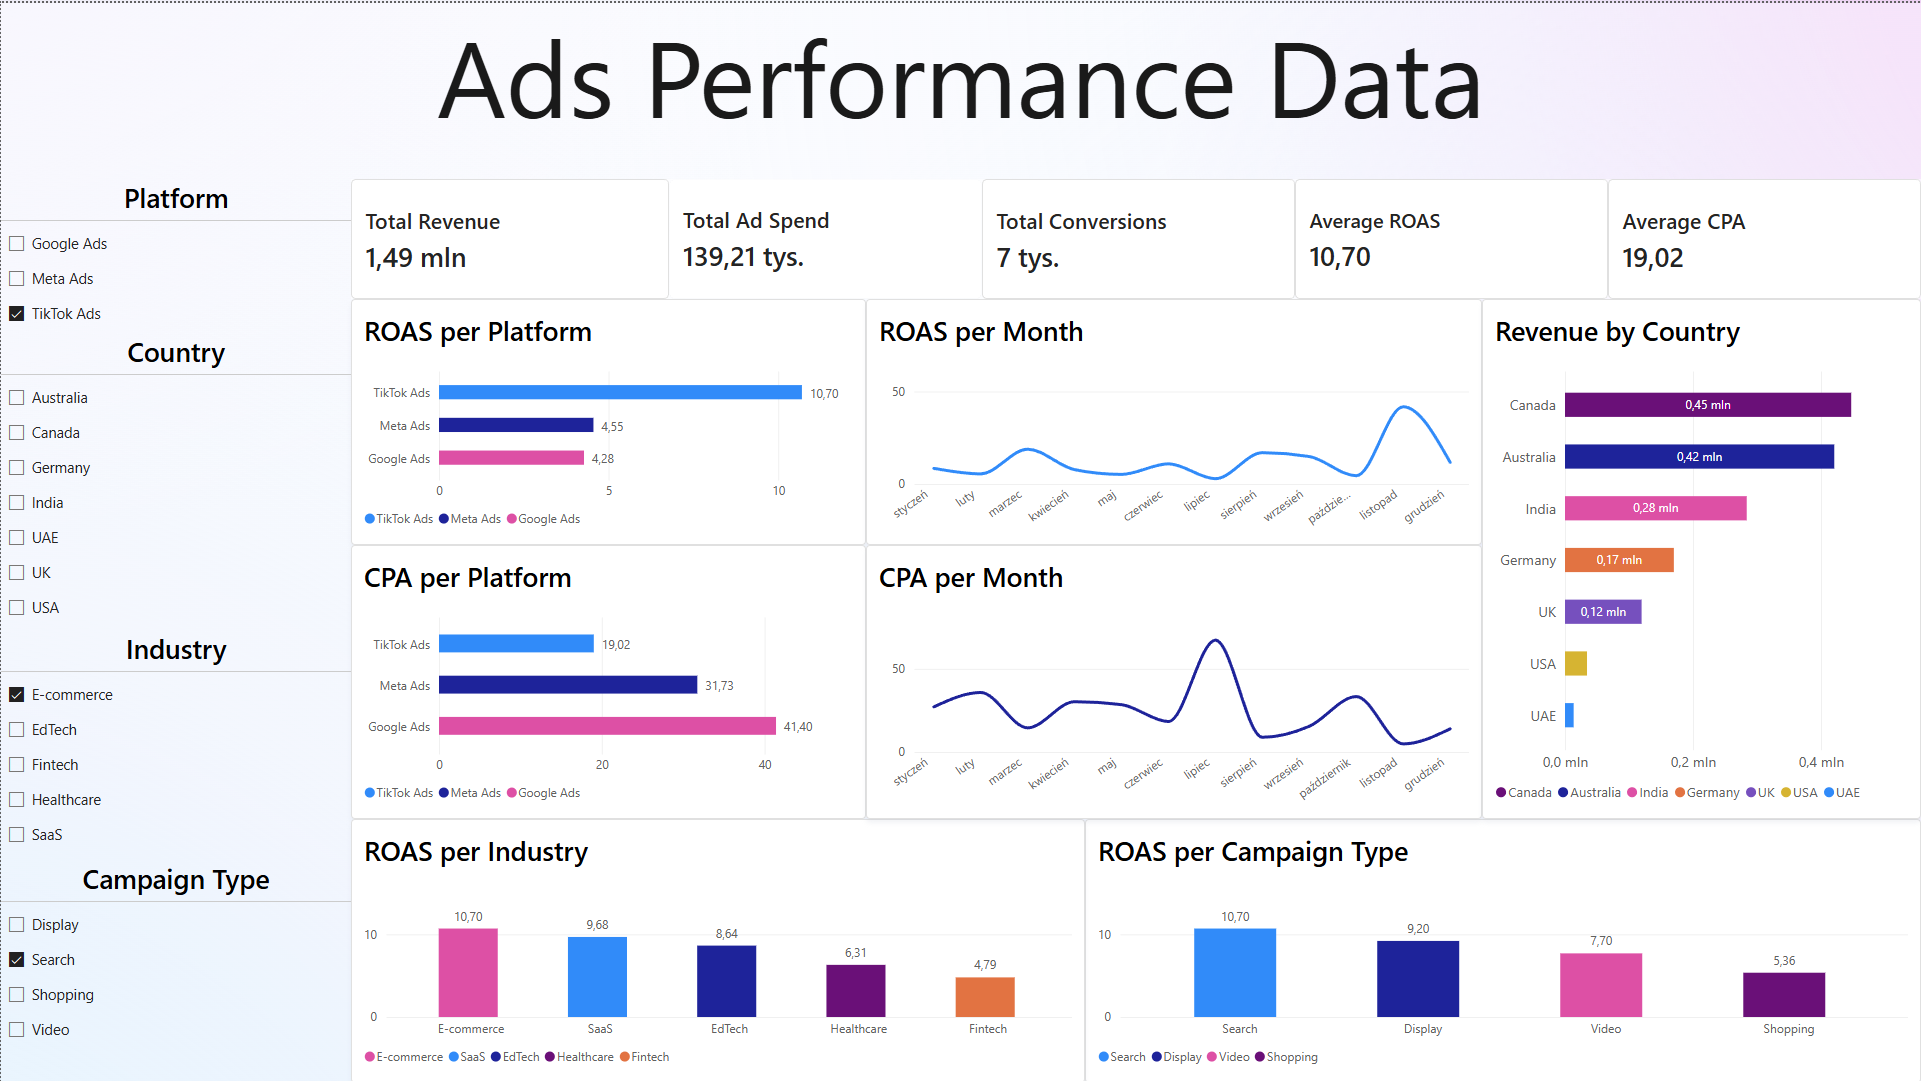

Layout of this report page (visuals, bound fields, positions):
{"tool":"powerbi","page":{"name":"Strona 1","canvas":[1920,1080],"ordinal":0},"visuals":[{"type":"textbox","box":[0,0,1920,176],"z":0},{"type":"barChart","title":"ROAS per Platform","fields":{"Category":["global_ads_performance_dataset.platform"],"Series":["global_ads_performance_dataset.platform"],"Y":["global_ads_performance_dataset.total_roas"]},"box":[350,296,515,246],"z":1000},{"type":"barChart","title":"CPA per Platform","fields":{"Category":["global_ads_performance_dataset.platform"],"Series":["global_ads_performance_dataset.platform"],"Y":["global_ads_performance_dataset.total_cpa"]},"box":[350,542,515,274],"z":2000},{"type":"columnChart","title":"ROAS per Campaign Type","fields":{"Category":["global_ads_performance_dataset.campaign_type"],"Series":["global_ads_performance_dataset.campaign_type"],"Y":["global_ads_performance_dataset.total_roas"]},"box":[1083.7,815.7,836.3,264],"z":4000},{"type":"columnChart","title":"ROAS per Industry","fields":{"Category":["global_ads_performance_dataset.industry"],"Series":["global_ads_performance_dataset.industry"],"Y":["global_ads_performance_dataset.total_roas"]},"box":[350.4,815.7,733.3,264],"z":5000},{"type":"lineChart","title":"ROAS per Month","fields":{"Category":["global_ads_performance_dataset.date.Variation.Hierarchia dat.Miesiąc"],"Y":["global_ads_performance_dataset.total_roas"]},"box":[865,296,616,246],"z":6000},{"type":"slicer","title":"Platform","fields":{"Values":["global_ads_performance_dataset.platform"]},"box":[0,176,350,154],"z":7000},{"type":"slicer","title":"Country","fields":{"Values":["global_ads_performance_dataset.country"]},"box":[0,330,349.8,296.7],"z":8000},{"type":"slicer","title":"Industry","fields":{"Values":["global_ads_performance_dataset.industry"]},"box":[0,627,350,230],"z":9000},{"type":"slicer","title":"Campaign Type","fields":{"Values":["global_ads_performance_dataset.campaign_type"]},"box":[0,857,349.8,188.6],"z":10000},{"type":"cardVisual","fields":{"Data":["Sum(global_ads_performance_dataset.ad_spend)"]},"box":[668,176,313,119.8],"z":10001},{"type":"cardVisual","fields":{"Data":["Sum(global_ads_performance_dataset.revenue)"]},"box":[350,176,318,120],"z":10002},{"type":"cardVisual","fields":{"Data":["Sum(global_ads_performance_dataset.conversions)"]},"box":[981,176,313,119.8],"z":10003},{"type":"cardVisual","fields":{"Data":["global_ads_performance_dataset.total_roas"]},"box":[1294,176,313,119.9],"z":10004},{"type":"cardVisual","fields":{"Data":["global_ads_performance_dataset.total_cpa"]},"box":[1607,176,313,119.9],"z":10005},{"type":"lineChart","title":"CPA per Month","fields":{"Category":["global_ads_performance_dataset.date.Variation.Hierarchia dat.Miesiąc"],"Y":["global_ads_performance_dataset.total_cpa"]},"box":[865,542,616,274],"z":10006},{"type":"barChart","title":"Revenue by Country","fields":{"Category":["global_ads_performance_dataset.country"],"Series":["global_ads_performance_dataset.country"],"Y":["Sum(global_ads_performance_dataset.revenue)"]},"box":[1481,296,439,520],"z":10007}]}

Visuals, with their boxes in screenshot pixels (x1, y1, x2, y2), scaled from the page's 1920x1080 canvas onto the 1921x1081 screenshot:
textbox: bbox=[0, 0, 1920, 176]
"ROAS per Platform" barChart: bbox=[350, 296, 865, 543]
"CPA per Platform" barChart: bbox=[350, 543, 865, 817]
"ROAS per Campaign Type" columnChart: bbox=[1084, 816, 1920, 1080]
"ROAS per Industry" columnChart: bbox=[351, 816, 1084, 1080]
"ROAS per Month" lineChart: bbox=[865, 296, 1482, 543]
"Platform" slicer: bbox=[0, 176, 350, 330]
"Country" slicer: bbox=[0, 330, 350, 627]
"Industry" slicer: bbox=[0, 628, 350, 858]
"Campaign Type" slicer: bbox=[0, 858, 350, 1047]
cardVisual - Sum(global_ads_performance_dataset.ad_spend): bbox=[668, 176, 982, 296]
cardVisual - Sum(global_ads_performance_dataset.revenue): bbox=[350, 176, 668, 296]
cardVisual - Sum(global_ads_performance_dataset.conversions): bbox=[982, 176, 1295, 296]
cardVisual - global_ads_performance_dataset.total_roas: bbox=[1295, 176, 1608, 296]
cardVisual - global_ads_performance_dataset.total_cpa: bbox=[1608, 176, 1920, 296]
"CPA per Month" lineChart: bbox=[865, 543, 1482, 817]
"Revenue by Country" barChart: bbox=[1482, 296, 1920, 817]
